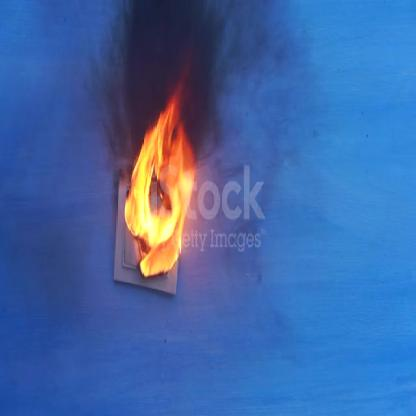fire: (108, 74, 213, 294)
smoke: (95, 5, 318, 206)
